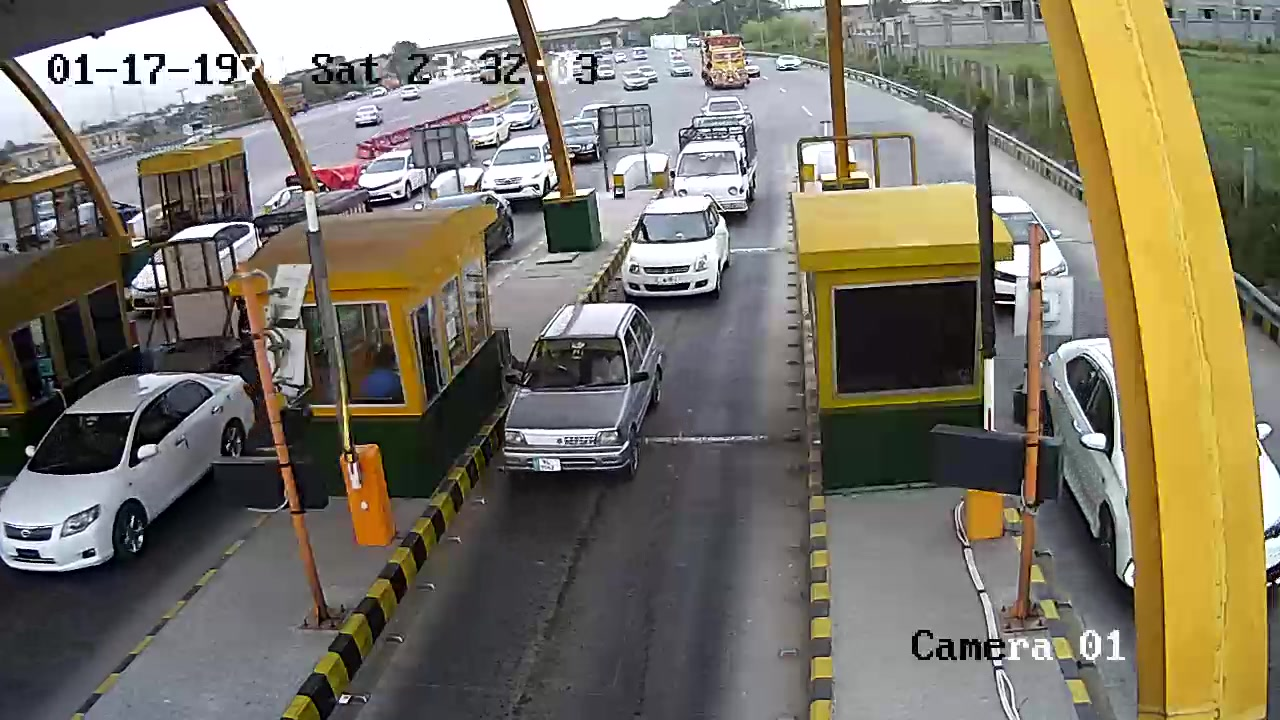F1: (480, 299, 683, 491), (619, 188, 743, 301)
